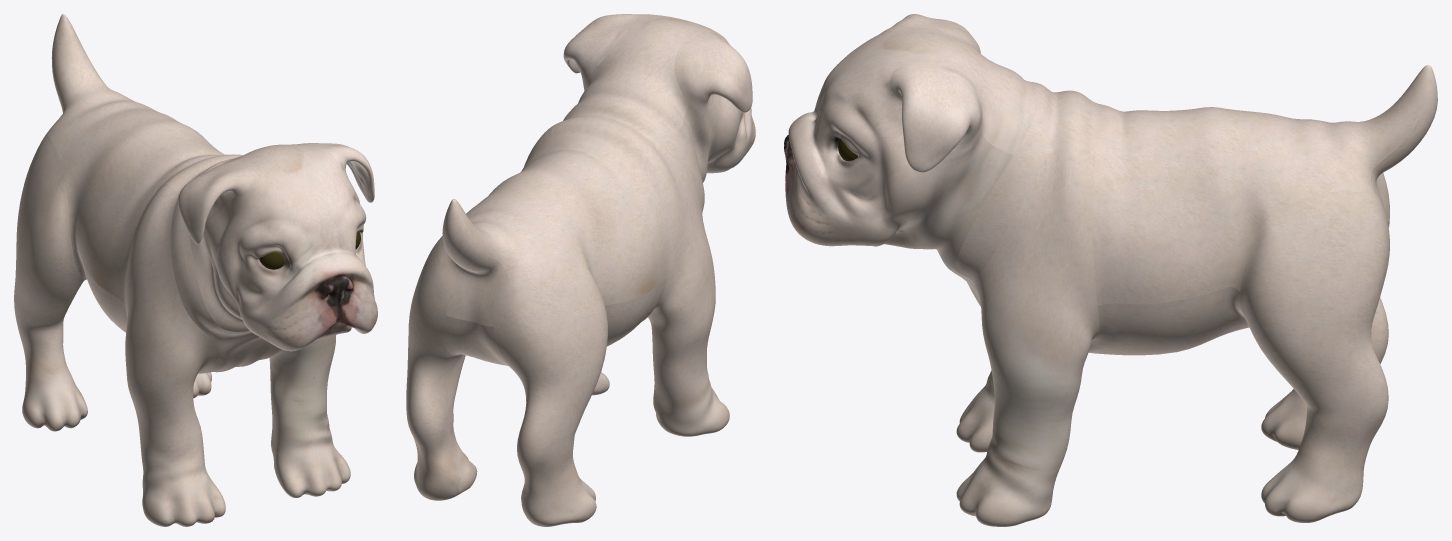
The model's file is dog.gltf.
The picture shows the model from 3 angles, left to right: view 1: azimuth 30°, elevation 25°; view 2: azimuth 150°, elevation 25°; view 3: azimuth 270°, elevation 25°; orthographic projection. The views are drawn at different scales.
Visible parts, largest first — view 1: Bulldog_Puppy; view 2: Bulldog_Puppy; view 3: Bulldog_Puppy.
Part boxes in pixels (bbox=[...]): Bulldog_Puppy: bbox=[14, 14, 377, 526]; Bulldog_Puppy: bbox=[406, 14, 755, 526]; Bulldog_Puppy: bbox=[784, 14, 1437, 526].
Size of the model in its own units: 19.82 by 36.02 by 48.98.
Materials: 2 (1 with a texture image).
